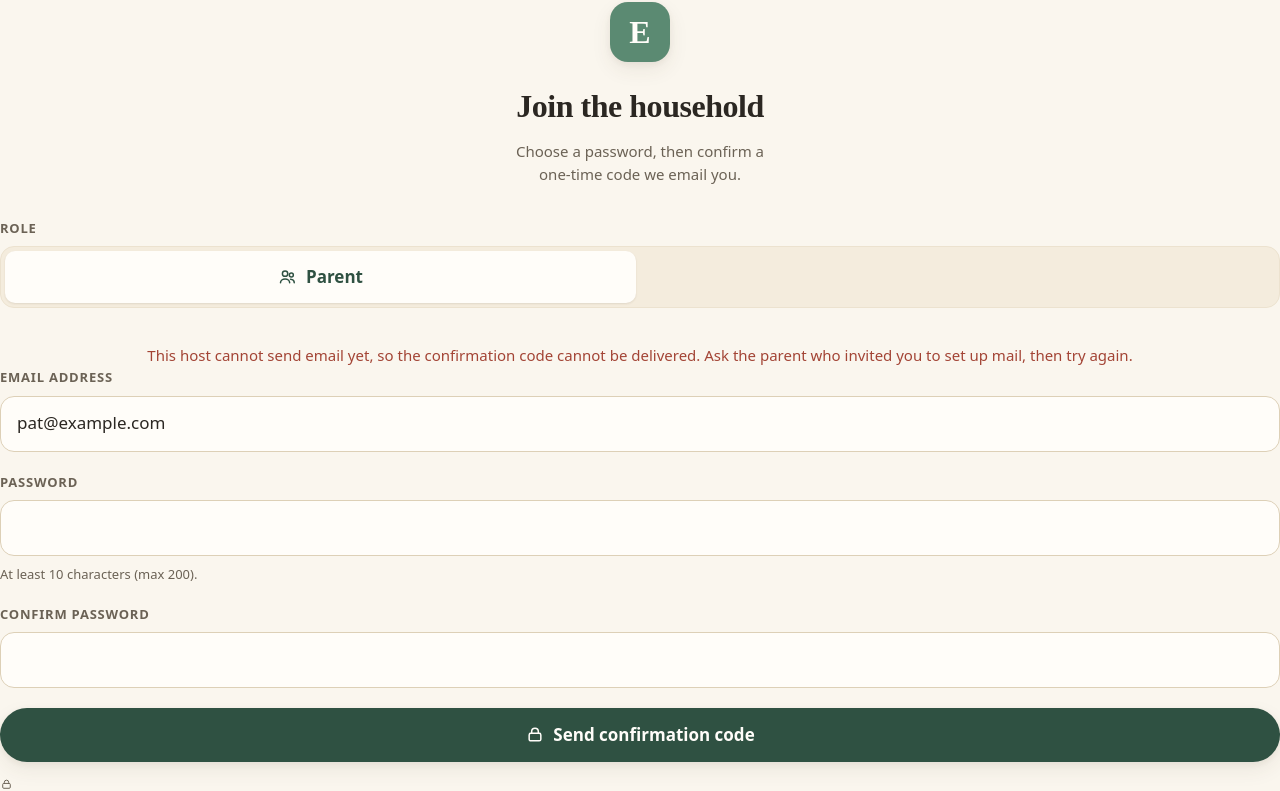
Test: Password invite step autofill › drops the short-password error on the next successful edit
(page scrolled)
Step 1. Submit the form with test id "invite-form"
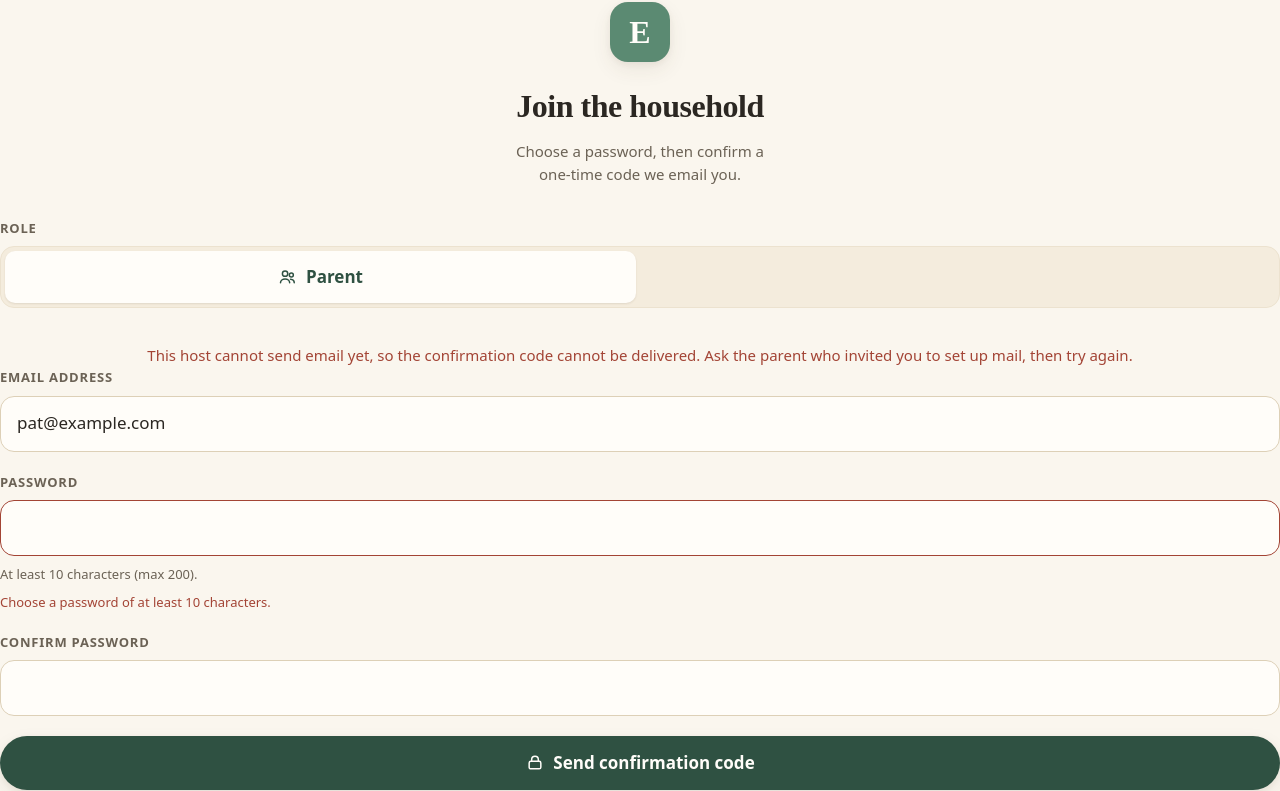
Expected: the message "Choose a password of at least 10 characters." is shown, [0,593,271,611]
Step 2. Type "long-enough-password" into the password field with test id "invite-password-input" → (640, 528), box [0,500,1279,556]
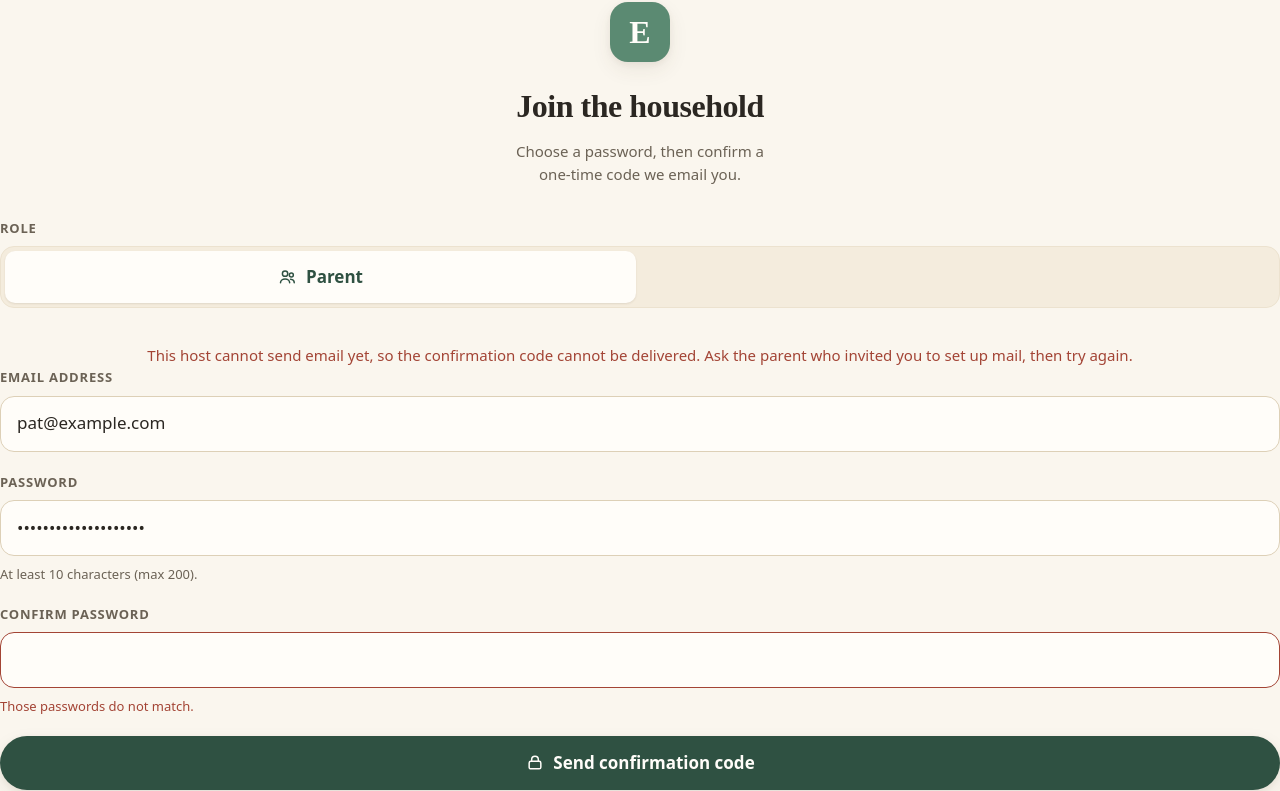
Expected: the message with test id "invite-password-error" is gone
